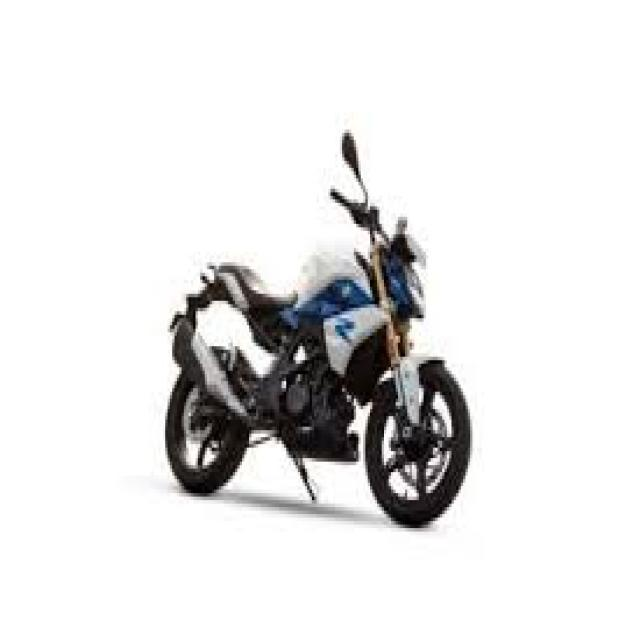Bike: (163, 161, 480, 528)
